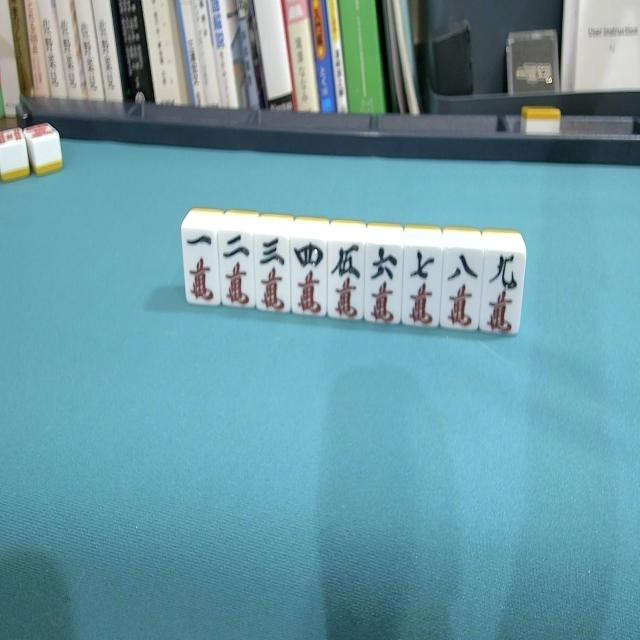1_man: (180, 208, 223, 316)
2_man: (217, 207, 260, 321)
3_man: (252, 212, 296, 321)
4_man: (288, 213, 330, 327)
5_man: (326, 218, 366, 333)
6_man: (361, 220, 407, 334)
7_man: (399, 224, 445, 338)
8_man: (438, 225, 488, 340)
9_man: (476, 228, 528, 346)
